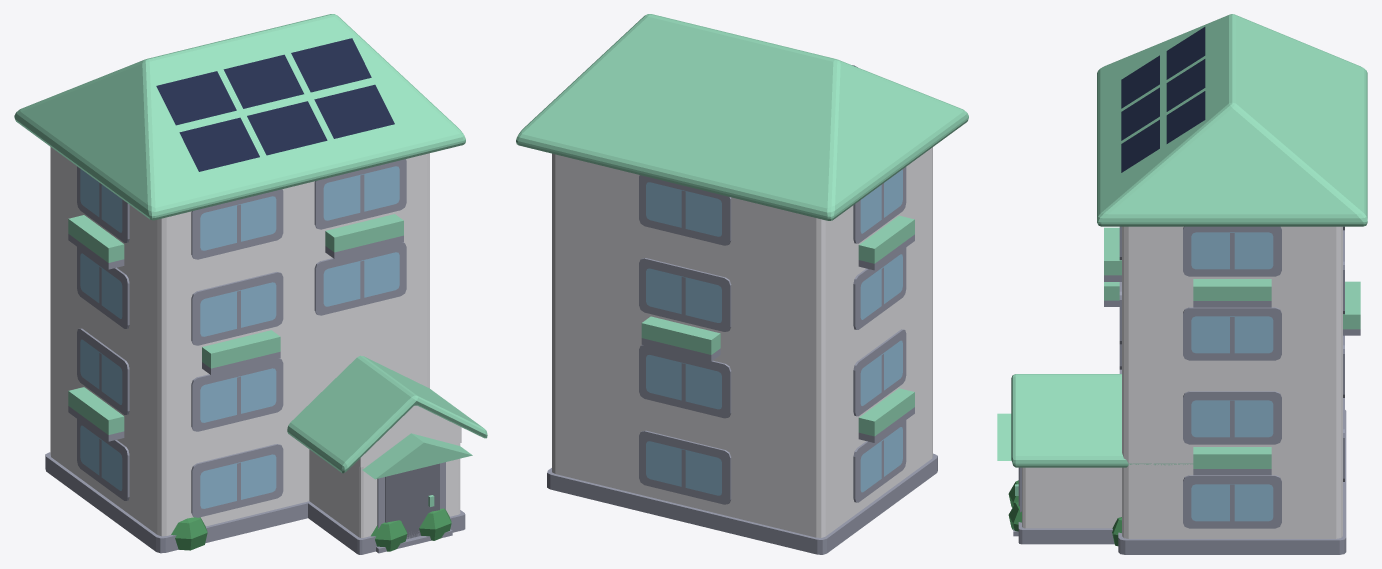
File: house-1x1-4f-mansard-a-solar.glb
3 renders of one model, left to right at view 1: azimuth 30°, elevation 25°; view 2: azimuth 150°, elevation 25°; view 3: azimuth 270°, elevation 25°, orthographic. The views are drawn at different scales.
Parts seen in each view (by area): view 1: house-1x1-4f-mansard-a-solar; view 2: house-1x1-4f-mansard-a-solar; view 3: house-1x1-4f-mansard-a-solar.
Boxes of the visible parts, x1,y1,x2,y2 form: house-1x1-4f-mansard-a-solar: (14, 14, 487, 554); house-1x1-4f-mansard-a-solar: (516, 14, 968, 554); house-1x1-4f-mansard-a-solar: (997, 14, 1367, 554).
Bounding box in the file's own units: 1 × 1.33 × 1.04.
1 material, 1 textured.
